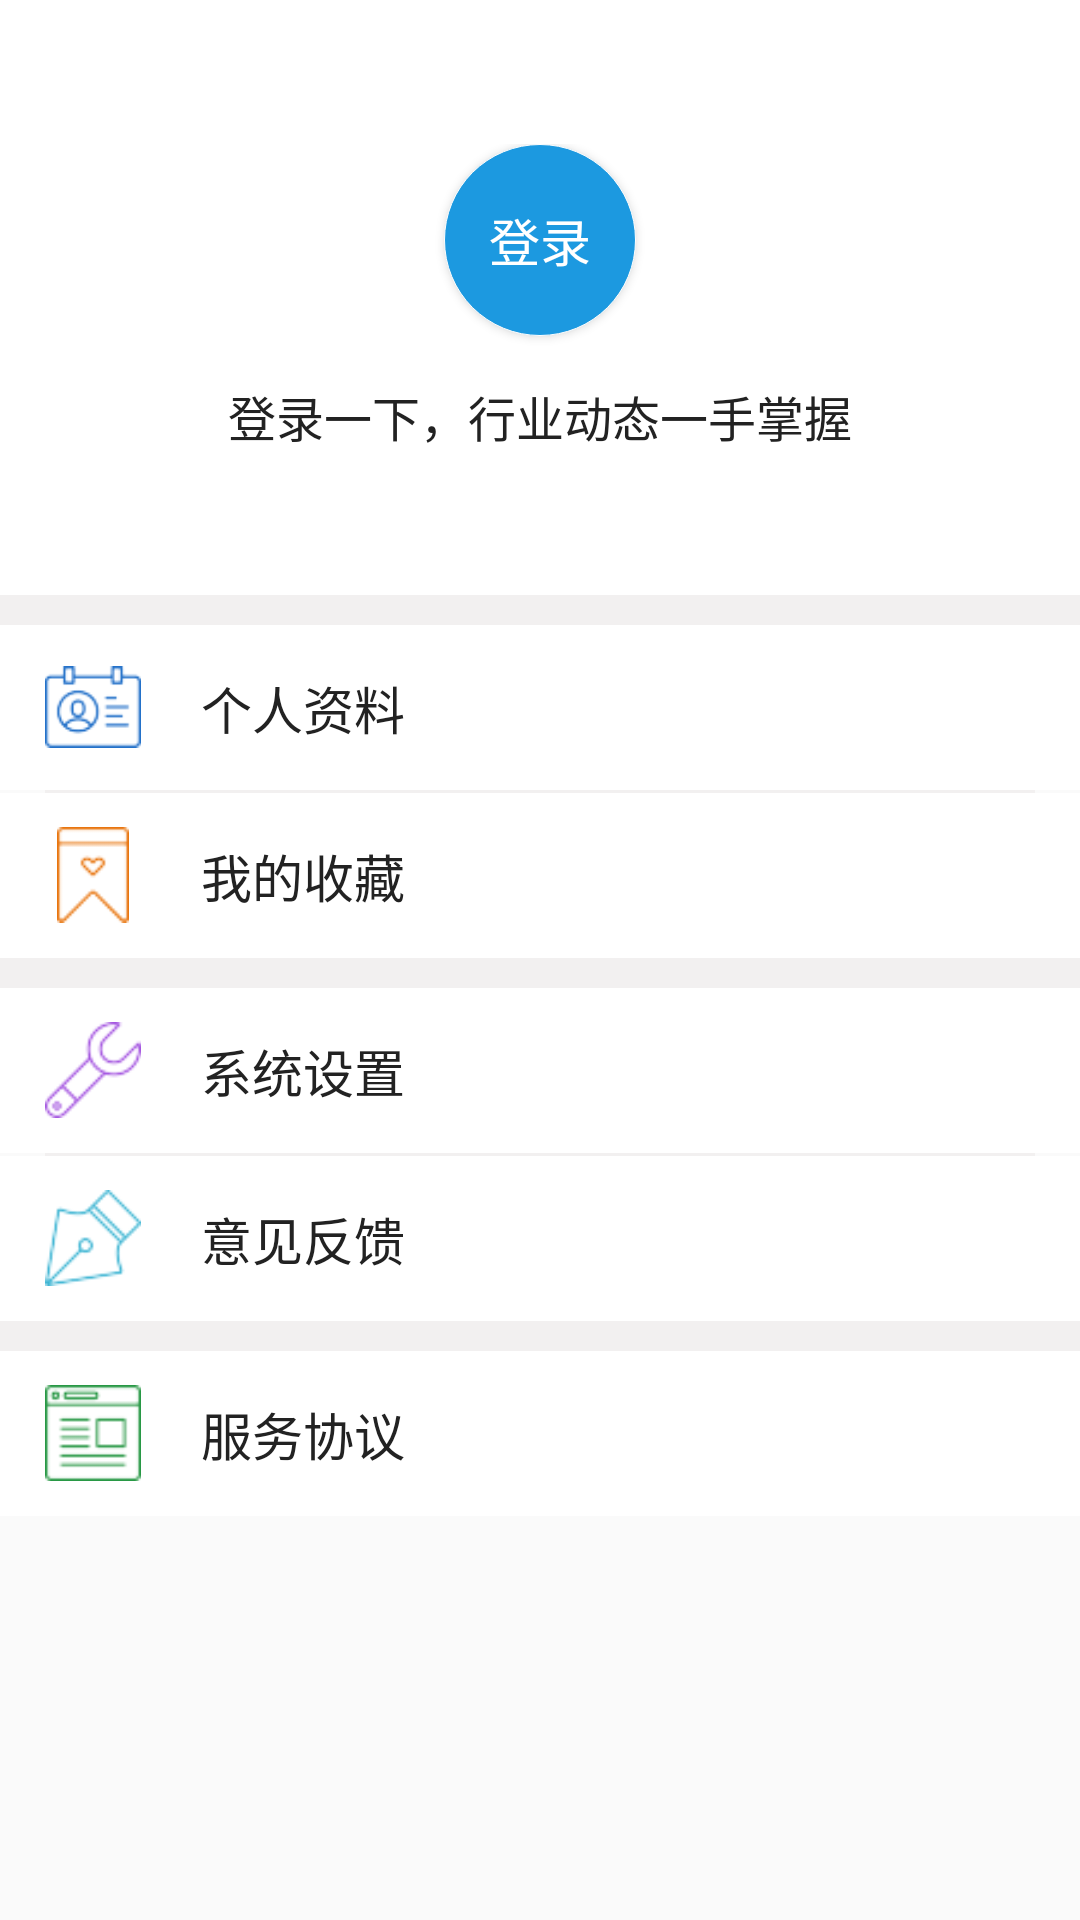

Icons on this 1080px×1920px Android screen, each with its box as bbox=(x1, y1, x2, y2):
bussiness: bbox=(45, 1385, 141, 1481)
collected: bbox=(57, 827, 129, 923)
feedback: bbox=(45, 1190, 141, 1286)
myself: bbox=(45, 666, 141, 748)
setting: bbox=(45, 1022, 141, 1118)
